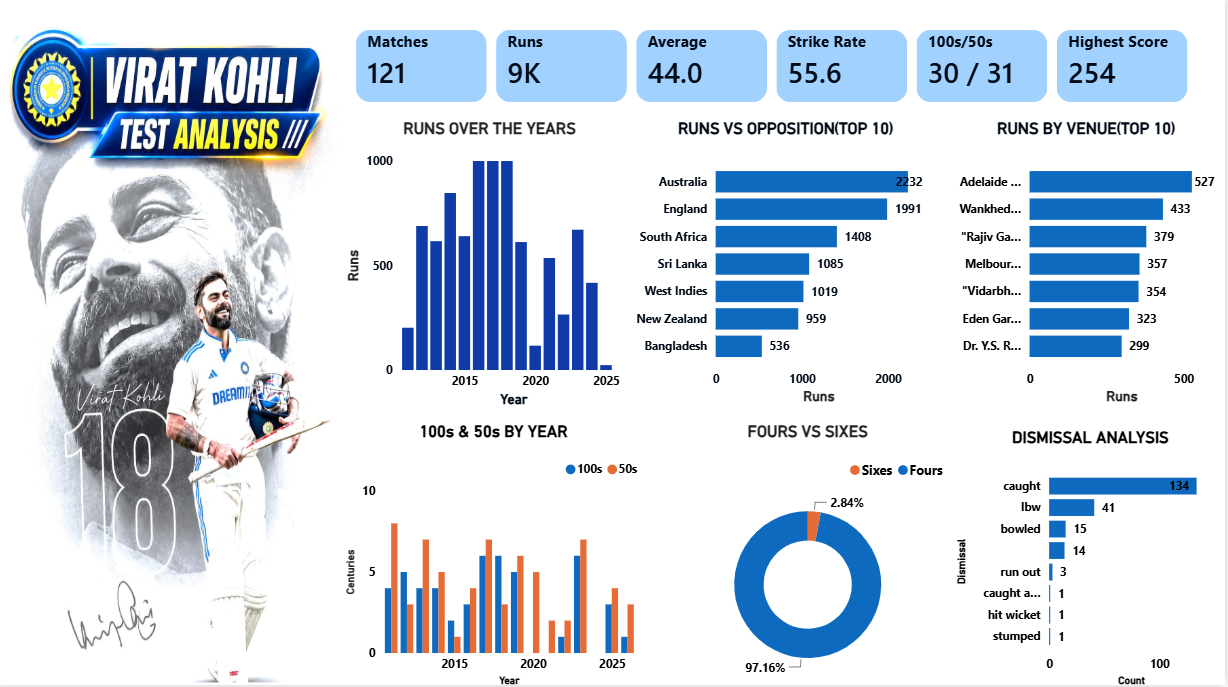

This screenshot's page, from the dashboard's own definition file:
{"tool":"powerbi","page":{"name":"TEST","canvas":[1280,720],"ordinal":1},"visuals":[{"type":"cardVisual","fields":{"Data":["Virat_Kohli_Master.ODI Matches","Virat_Kohli_Master.ODI Runs","Virat_Kohli_Master.ODI Average","Virat_Kohli_Master.ODI Strike Rate","Virat_Kohli_Master.ODI 100s 50s","Virat_Kohli_Master.ODI Highest Score"]},"box":[357.9,20.7,903.5,109],"z":0},{"type":"clusteredColumnChart","title":"RUNS OVER THE YEARS","fields":{"Category":["Virat_Kohli_Master.Date.Variation.Date Hierarchy.Year"],"Y":["Sum(Virat_Kohli_Master.Runs)"]},"box":[364.2,130.4,300,300],"z":1000},{"type":"clusteredBarChart","title":"RUNS VS OPPOSITION(TOP 10)","fields":{"Category":["Virat_Kohli_Master.Opponent"],"Y":["Sum(Virat_Kohli_Master.Runs)"]},"box":[664.9,130.4,313.4,297.4],"z":2000},{"type":"clusteredBarChart","title":"RUNS BY VENUE(TOP 10)","fields":{"Category":["Virat_Kohli_Master.Venue"],"Y":["Sum(Virat_Kohli_Master.Runs)"]},"box":[991,130.4,289.5,297.4],"z":3000},{"type":"clusteredColumnChart","title":"100s & 50s BY YEAR","fields":{"Category":["Virat_Kohli_Master.Date.Variation.Date Hierarchy.Year"],"Y":["Virat_Kohli_Master.ODI 100s","Virat_Kohli_Master.ODI 50s"]},"box":[364.2,445.4,313.4,275.2],"z":4000},{"type":"donutChart","title":"FOURS VS SIXES","fields":{"Y":["Sum(Virat_Kohli_Master.Sixes)","Sum(Virat_Kohli_Master.Fours)"]},"box":[699.9,445.4,291.1,275.2],"z":5000},{"type":"clusteredBarChart","title":"DISMISSAL ANALYSIS","fields":{"Category":["Virat_Kohli_Master.Dismissal"],"Y":["CountNonNull(Virat_Kohli_Master.Dismissal)"]},"box":[1000.1,451.2,279.9,268.8],"z":6000}]}

Visuals, with their boxes in screenshot pixels (x1, y1, x2, y2), scaled from the page's 1280x720 canvas onto the 1228x687 screenshot:
cardVisual - Virat_Kohli_Master.ODI Matches x Virat_Kohli_Master.ODI Runs: (left=343, top=20, right=1210, bottom=124)
"RUNS OVER THE YEARS" clusteredColumnChart: (left=349, top=124, right=637, bottom=411)
"RUNS VS OPPOSITION(TOP 10)" clusteredBarChart: (left=638, top=124, right=939, bottom=408)
"RUNS BY VENUE(TOP 10)" clusteredBarChart: (left=951, top=124, right=1227, bottom=408)
"100s & 50s BY YEAR" clusteredColumnChart: (left=349, top=425, right=650, bottom=686)
"FOURS VS SIXES" donutChart: (left=671, top=425, right=951, bottom=686)
"DISMISSAL ANALYSIS" clusteredBarChart: (left=959, top=431, right=1227, bottom=686)
